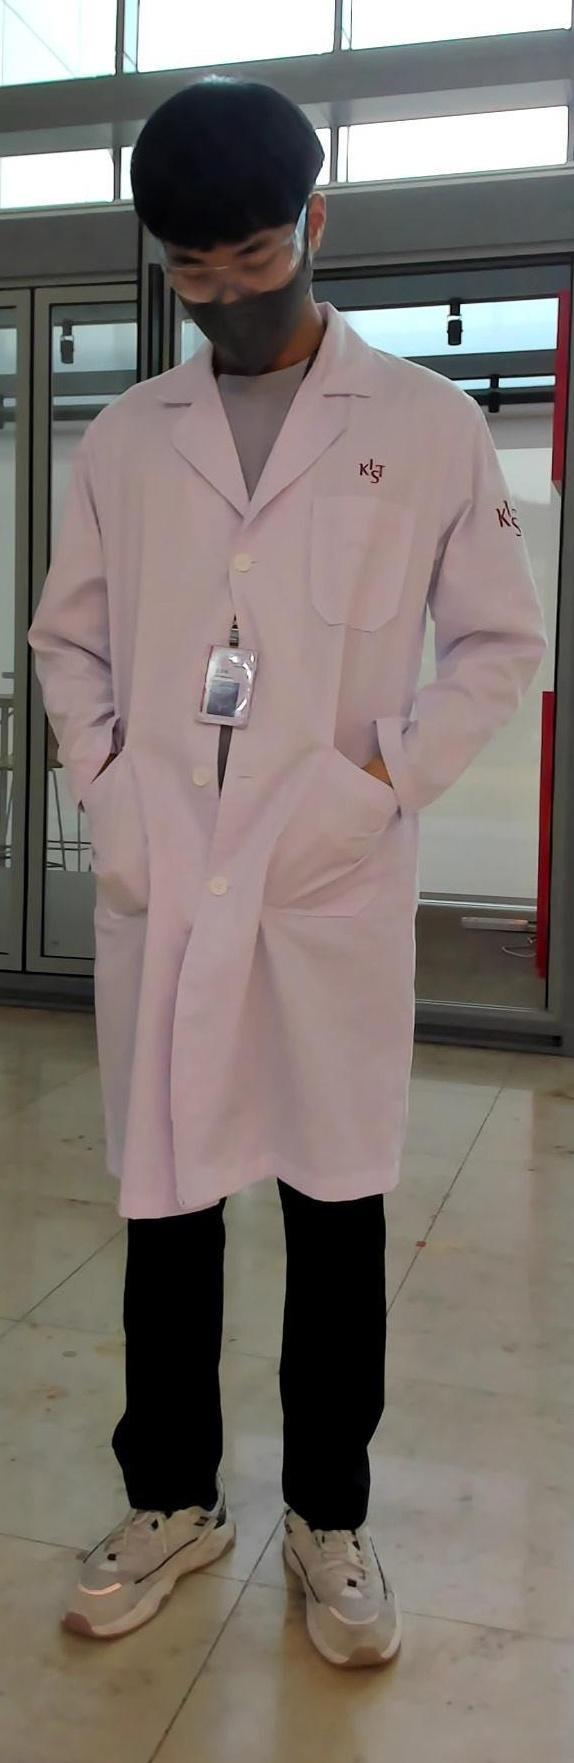lab_coat: (21, 381, 541, 1182)
